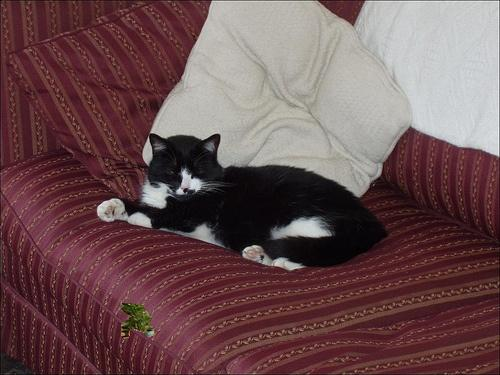tampered: (121, 304, 154, 339)
